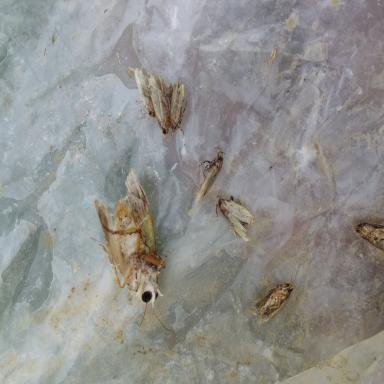abw: (92, 168, 176, 348)
pbw: (247, 258, 298, 324), (215, 194, 255, 242), (193, 144, 225, 204), (145, 70, 171, 142), (134, 67, 156, 119), (170, 80, 188, 136), (354, 221, 384, 253)
